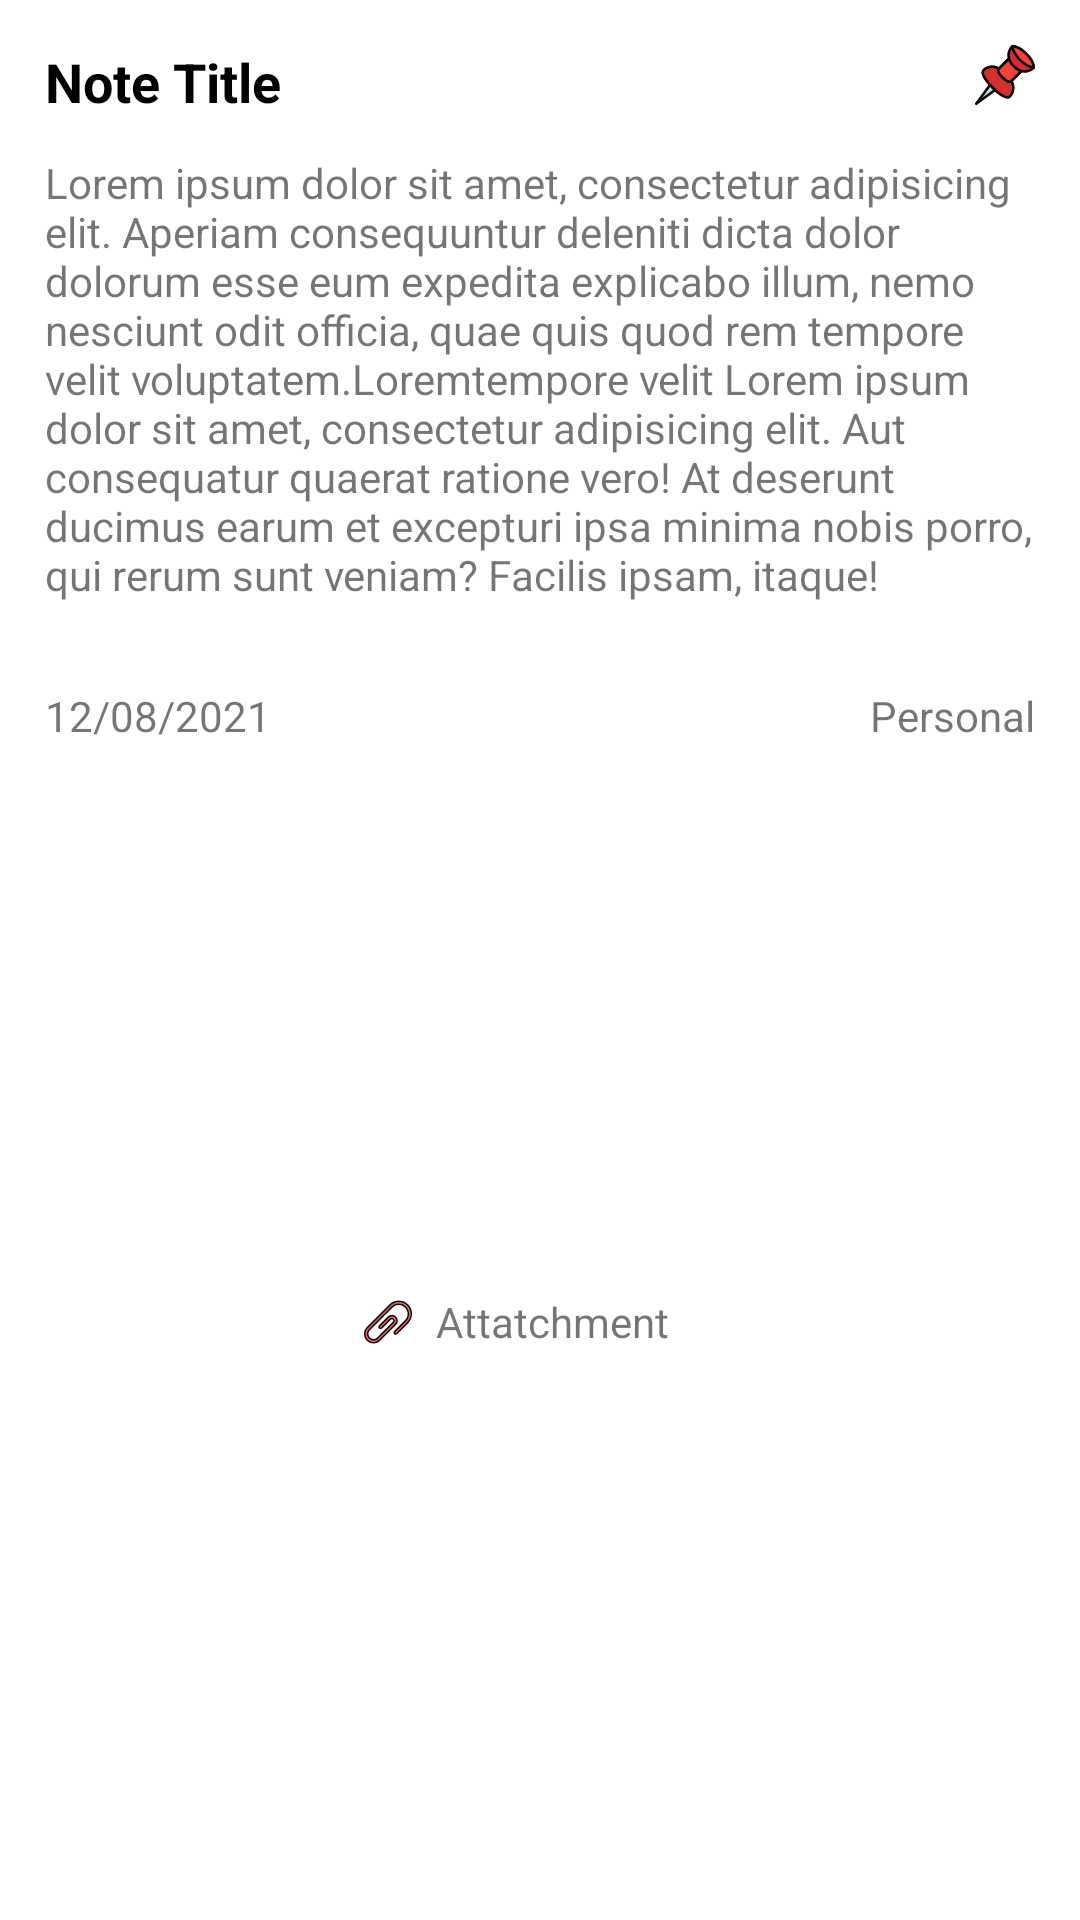

Point at icon controls on the screen. Image size 1080 × 1920, points as (x=x, y=y).
attachments: (x=388, y=1322)
pin: (x=1005, y=75)
